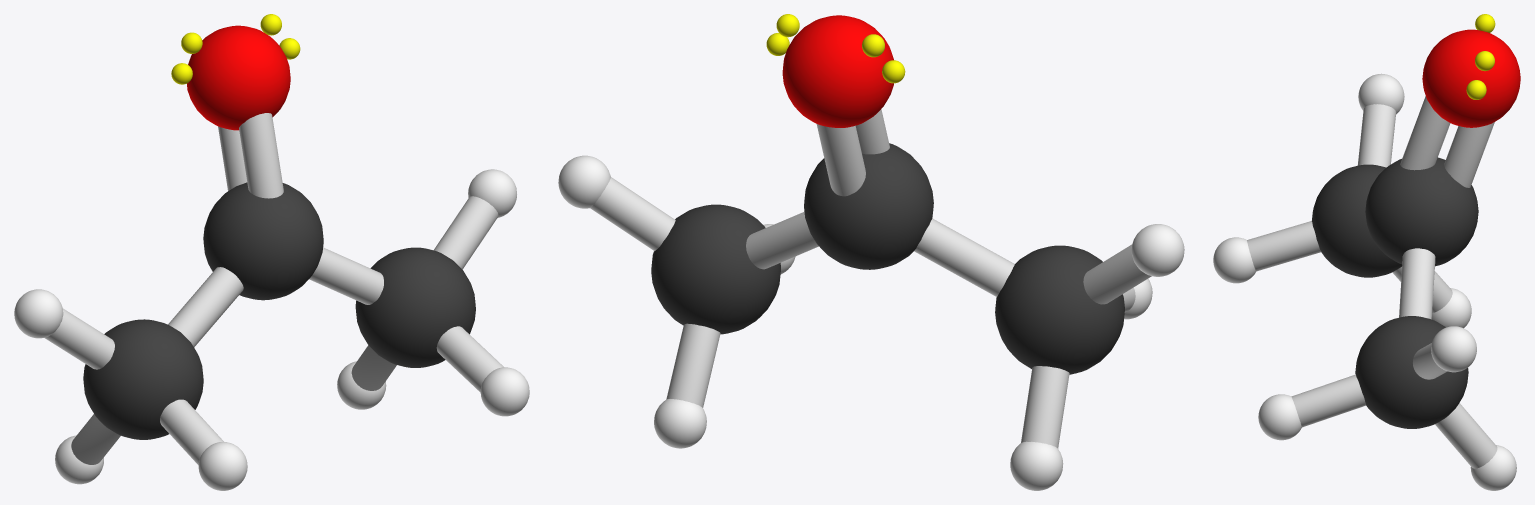
3 renders of one model, left to right at view 1: azimuth 30°, elevation 25°; view 2: azimuth 150°, elevation 25°; view 3: azimuth 270°, elevation 25°, orthographic. The views are drawn at different scales.
Visible parts, largest first — view 1: Atom_Propanone_1_C, Atom_Propanone_3_C, Atom_Propanone_0_C, Atom_Propanone_2_O, Bond_Propanone_1_2_1, Bond_Propanone_0_1, Bond_Propanone_1_3, Bond_Propanone_3_9, Bond_Propanone_0_6, Bond_Propanone_3_7, Bond_Propanone_0_4, Atom_Propanone_7_H (+8 smaller); view 2: Atom_Propanone_3_C, Atom_Propanone_0_C, Atom_Propanone_1_C, Atom_Propanone_2_O, Bond_Propanone_0_1, Bond_Propanone_3_9, Bond_Propanone_3_8, Bond_Propanone_0_5, Bond_Propanone_1_2_0, Bond_Propanone_1_3, Atom_Propanone_6_H, Bond_Propanone_0_6 (+4 smaller); view 3: Atom_Propanone_1_C, Atom_Propanone_3_C, Atom_Propanone_2_O, Atom_Propanone_0_C, Bond_Propanone_3_7, Bond_Propanone_0_4, Bond_Propanone_1_3, Bond_Propanone_1_2_1, Bond_Propanone_3_8, Bond_Propanone_0_6, Bond_Propanone_1_2_0, Atom_Propanone_9_H (+7 smaller).
Part boxes in pixels (x1,y1,x2,y2): Atom_Propanone_1_C: [203, 182, 323, 300]; Atom_Propanone_3_C: [355, 247, 475, 367]; Atom_Propanone_0_C: [83, 319, 203, 439]; Atom_Propanone_2_O: [187, 25, 290, 130]; Bond_Propanone_1_2_1: [239, 113, 283, 198]; Bond_Propanone_0_1: [168, 267, 243, 347]; Bond_Propanone_1_3: [309, 247, 383, 304]; Bond_Propanone_3_9: [434, 196, 498, 269]; Bond_Propanone_0_6: [44, 308, 114, 369]; Bond_Propanone_3_7: [436, 326, 503, 392]; Bond_Propanone_0_4: [160, 399, 223, 465]; Atom_Propanone_7_H: [480, 367, 529, 416]; Atom_Propanone_3_C: [651, 204, 780, 334]; Atom_Propanone_0_C: [995, 245, 1124, 374]; Atom_Propanone_1_C: [804, 143, 933, 269]; Atom_Propanone_2_O: [782, 15, 893, 127]; Bond_Propanone_0_1: [914, 218, 1014, 296]; Bond_Propanone_3_9: [590, 177, 675, 251]; Bond_Propanone_3_8: [666, 323, 720, 407]; Bond_Propanone_0_5: [1021, 366, 1069, 448]; Bond_Propanone_1_2_0: [816, 124, 865, 196]; Bond_Propanone_1_3: [746, 212, 818, 269]; Atom_Propanone_6_H: [1131, 224, 1184, 276]; Bond_Propanone_0_6: [1083, 244, 1151, 304]; Atom_Propanone_1_C: [1365, 157, 1478, 266]; Atom_Propanone_3_C: [1355, 316, 1468, 428]; Atom_Propanone_2_O: [1422, 29, 1520, 127]; Atom_Propanone_0_C: [1312, 164, 1402, 277]; Bond_Propanone_3_7: [1291, 374, 1366, 427]; Bond_Propanone_0_4: [1247, 221, 1321, 271]; Bond_Propanone_1_3: [1399, 248, 1435, 319]; Bond_Propanone_1_2_1: [1400, 96, 1450, 170]; Bond_Propanone_3_8: [1435, 403, 1497, 468]; Bond_Propanone_0_6: [1357, 104, 1396, 167]; Bond_Propanone_1_2_0: [1444, 122, 1494, 187]; Atom_Propanone_9_H: [1431, 326, 1476, 372].
Size of the model in its own units: 4.59 by 3.44 by 2.44.
